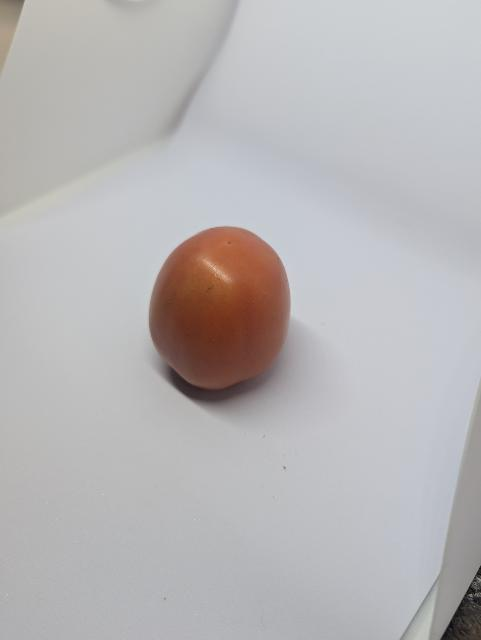red: (138, 215, 312, 398)
